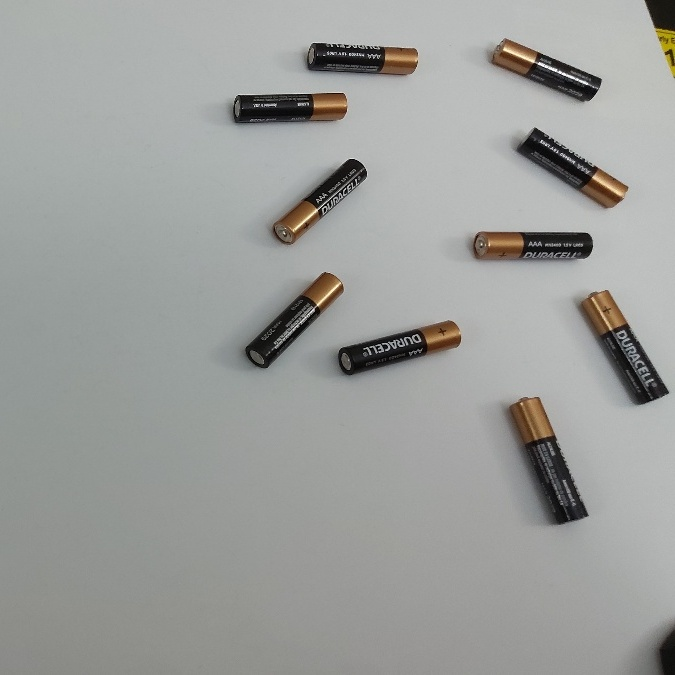battery: (578, 281, 671, 405), (240, 265, 344, 370), (509, 398, 590, 527), (515, 125, 630, 212), (271, 154, 371, 247), (489, 34, 604, 107), (339, 319, 466, 375), (471, 228, 595, 266), (227, 87, 348, 123), (301, 41, 421, 77)
